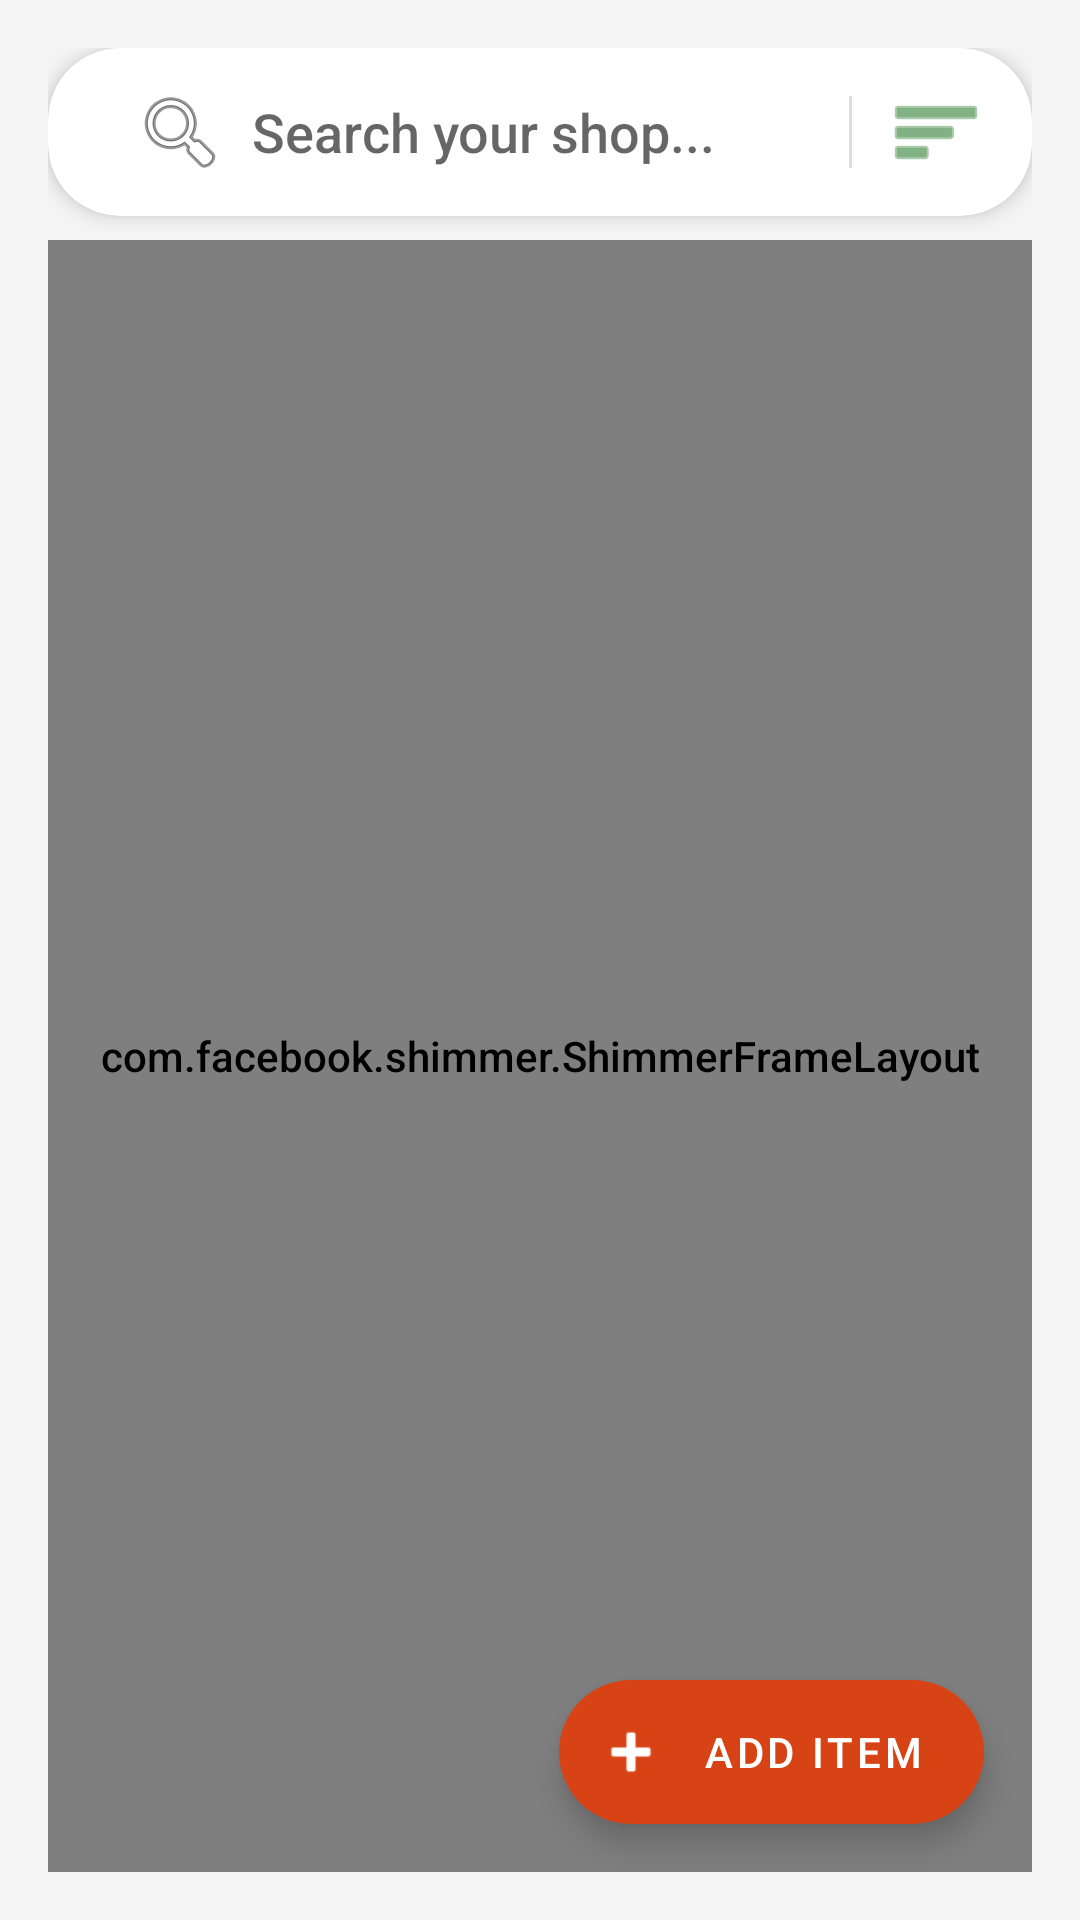

Screen size 1080x1920. Icon name, then its box in pixels as (x1, y1, x2, y2):
sort by size: (895, 106, 977, 159)
